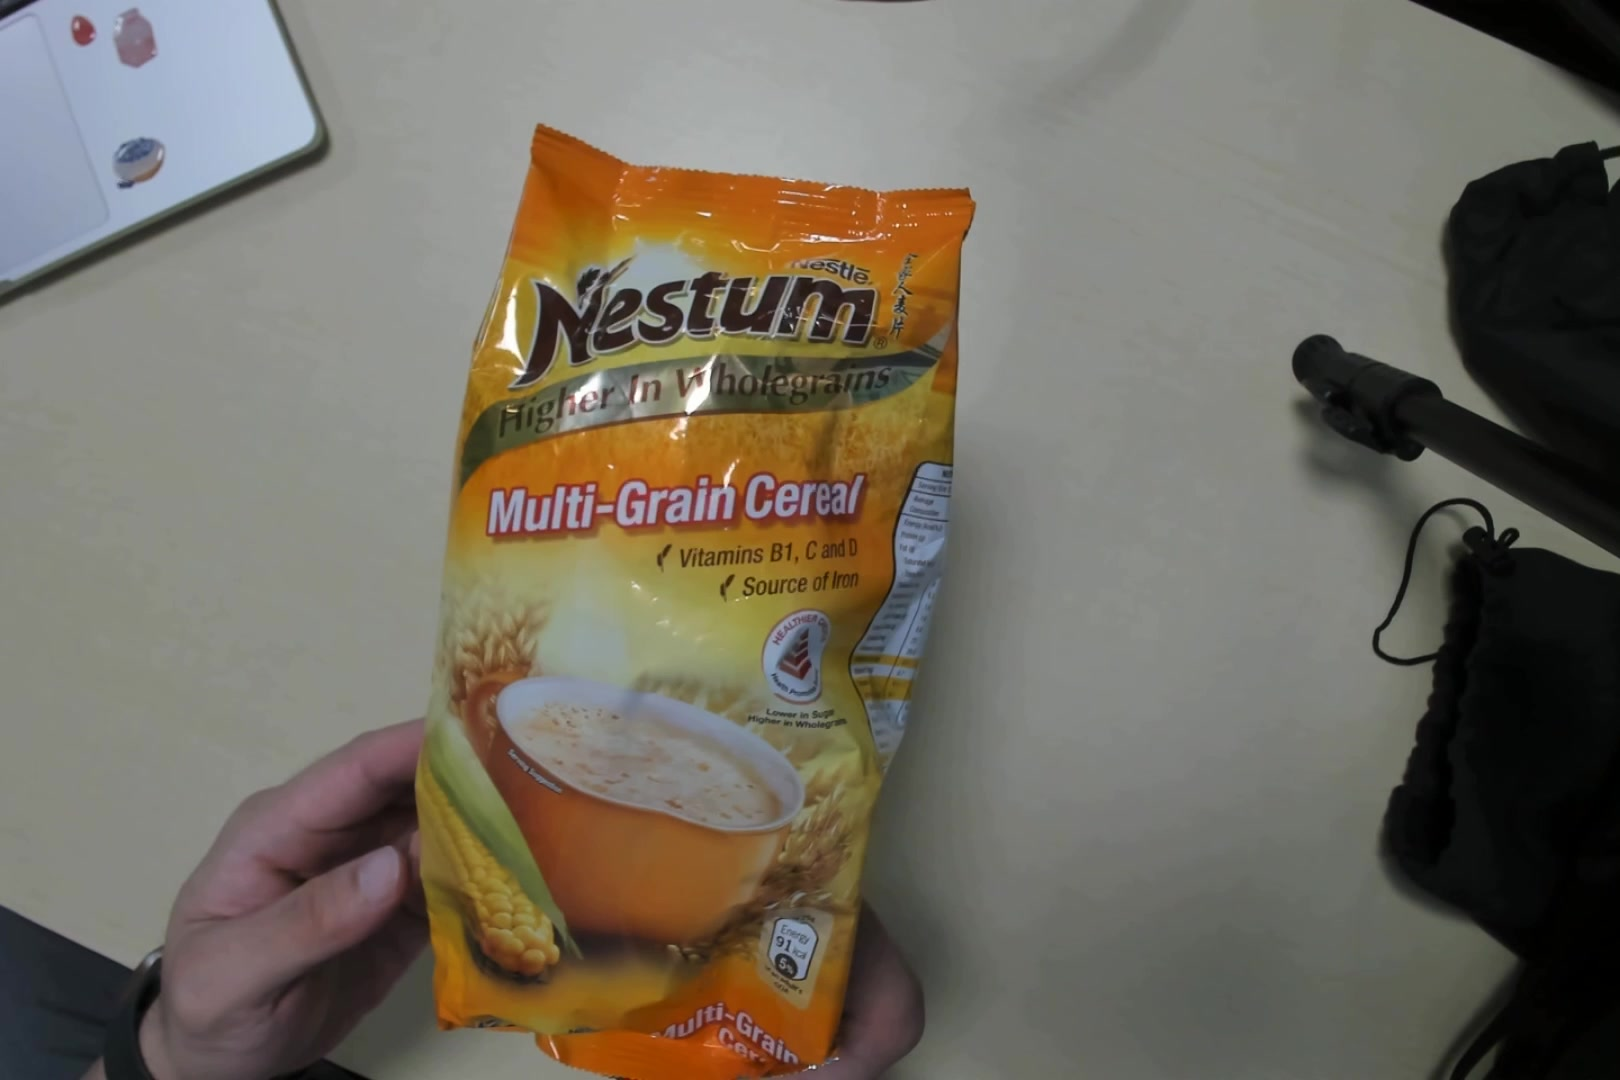RolledOatsInstantOatmeal_200-299g_NonHalal_Healthy: (423, 149, 972, 1080)
